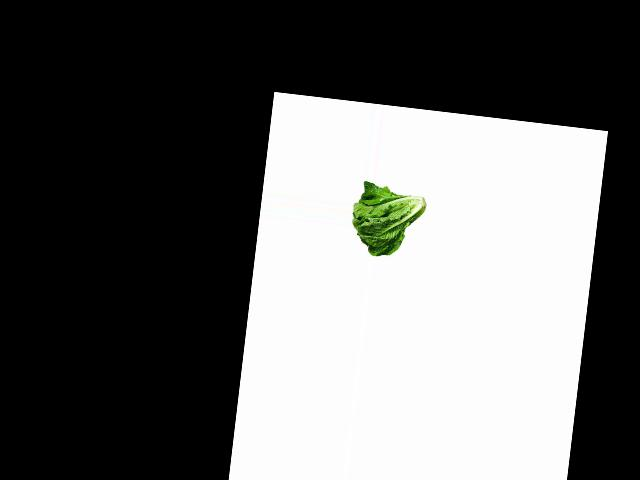lettuce: (347, 181, 431, 262)
